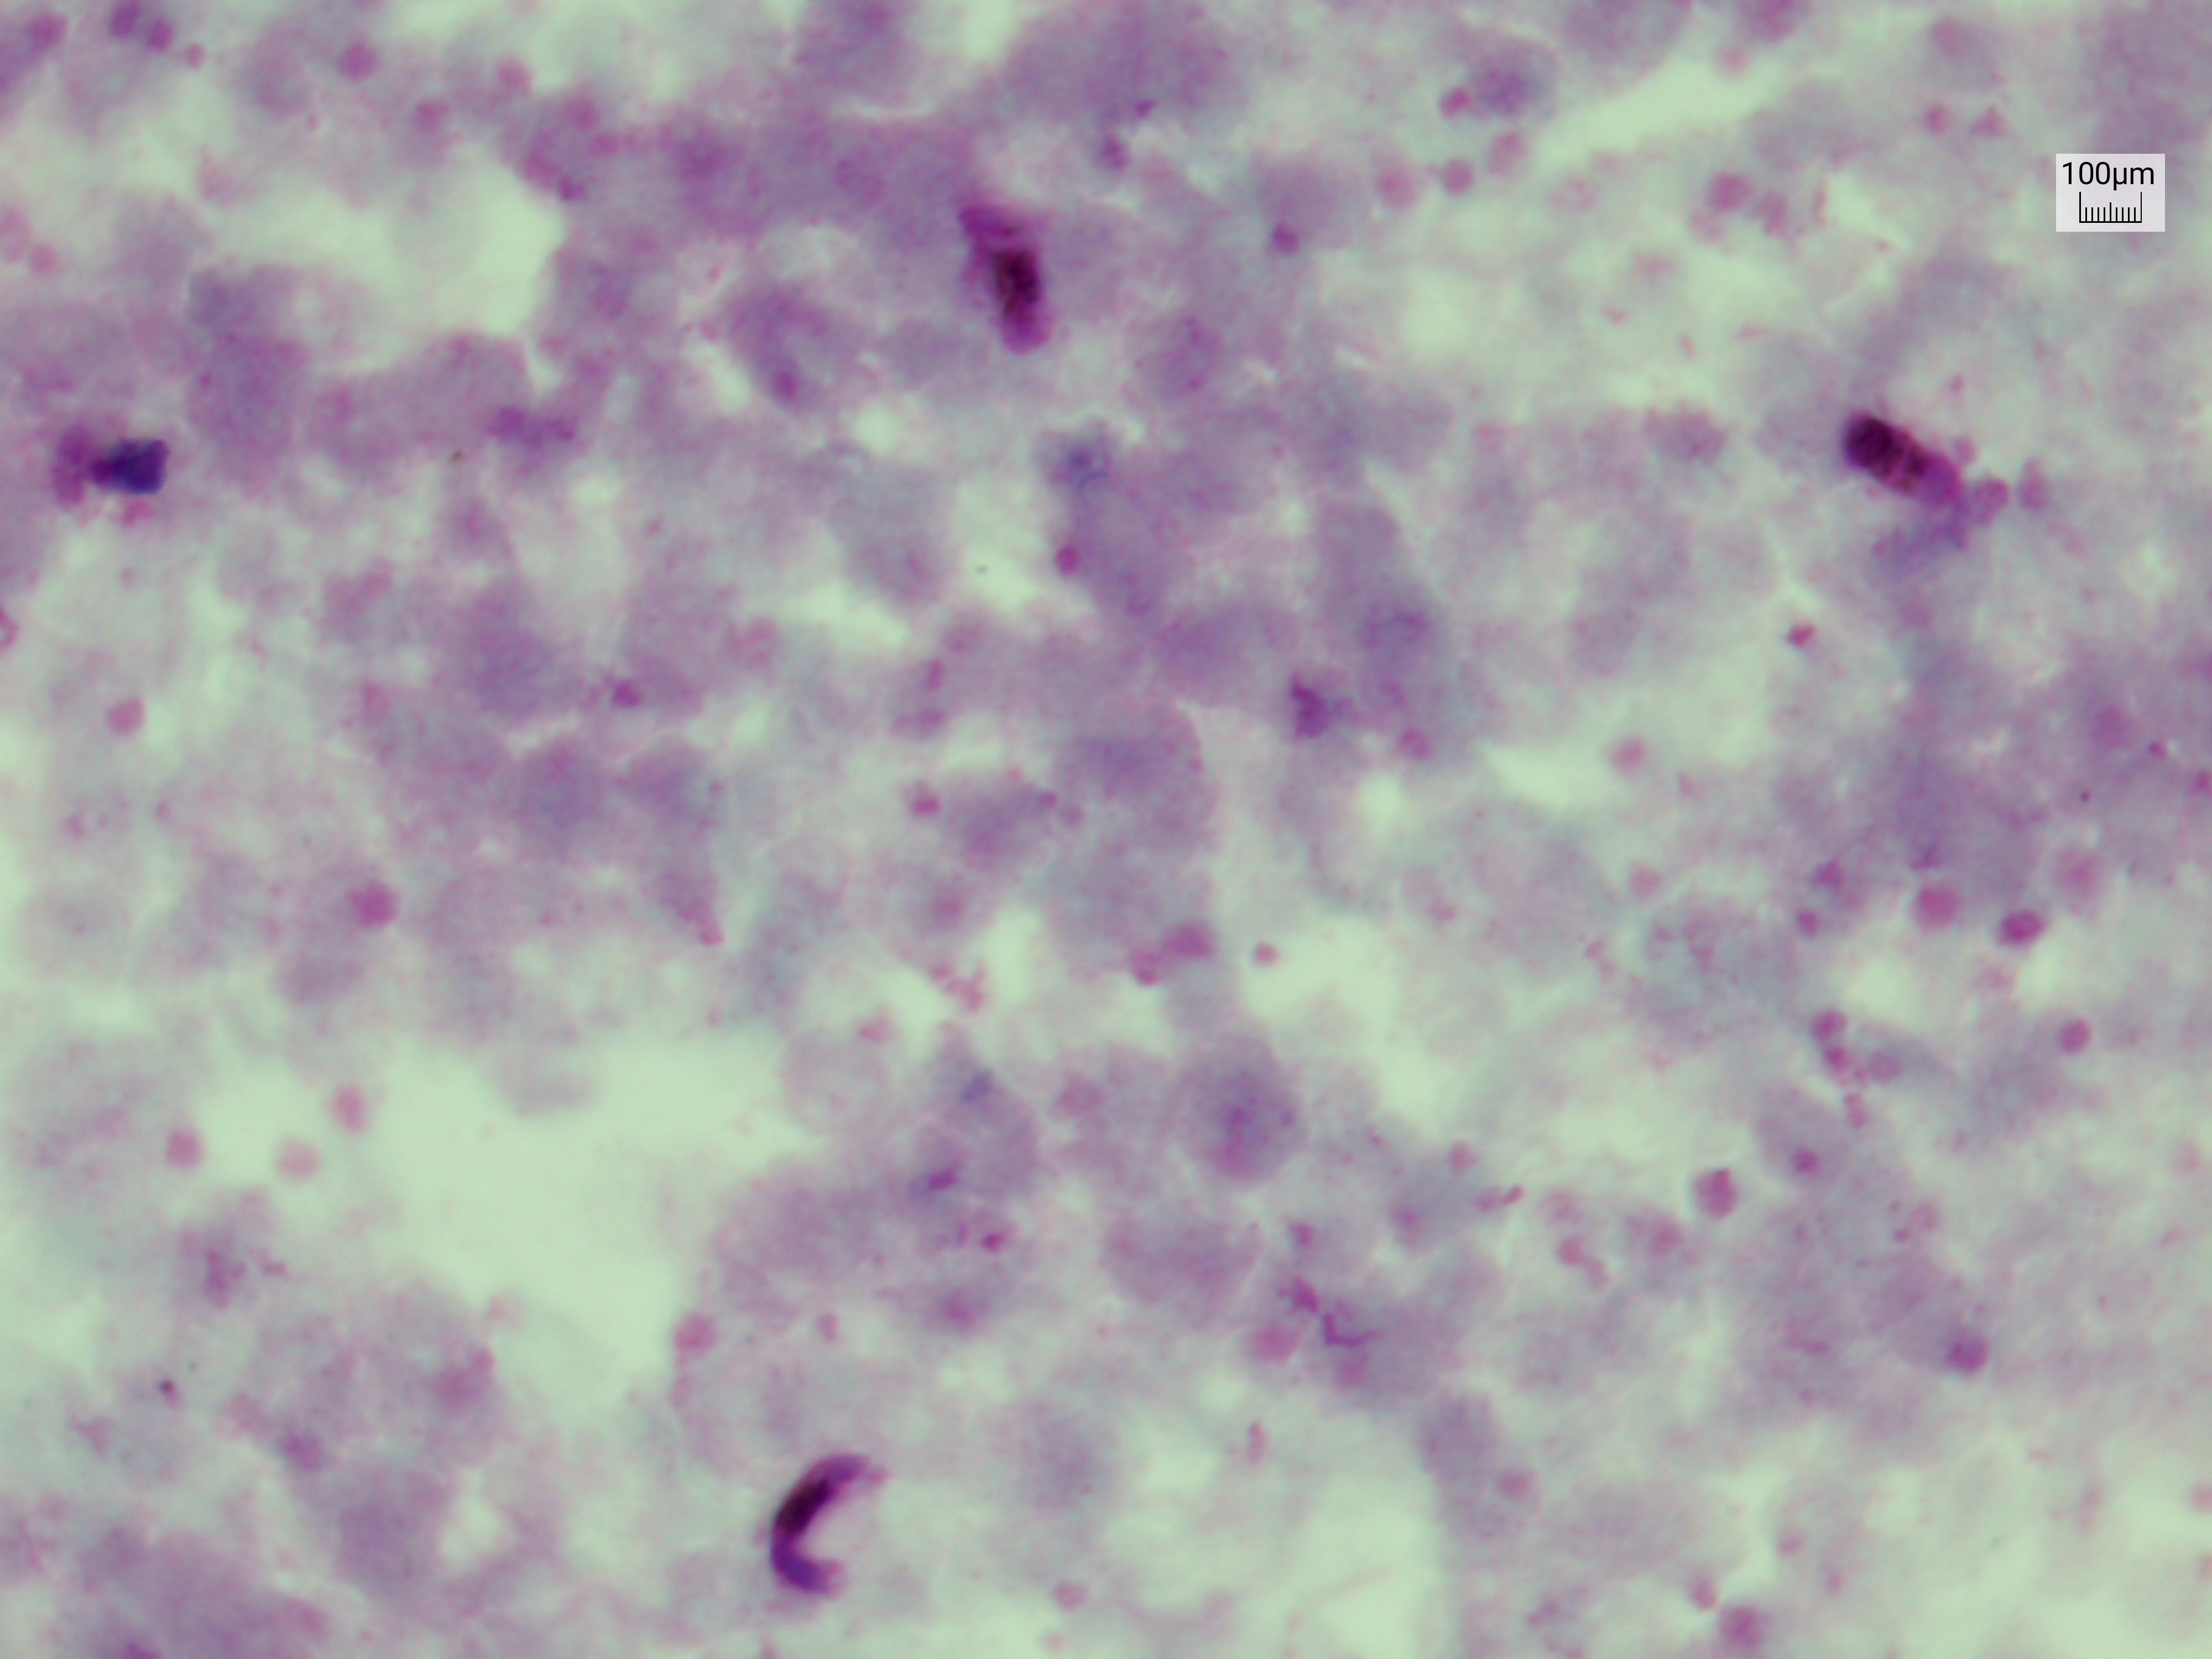p.falciparum: (1792, 380, 2031, 544), (735, 1432, 911, 1635), (942, 164, 1062, 369), (118, 1344, 214, 1445)
